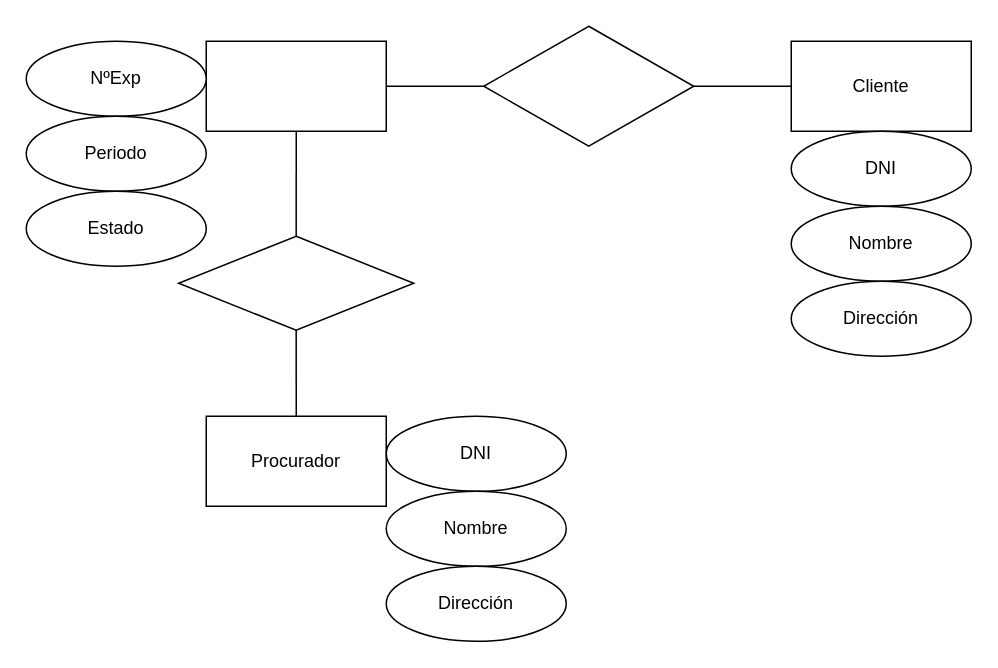
This 998x668 diagram has some shape labels left out. Each missing label, with the centre of its shape:
"Asunto" belongs at point 295,85.
"Corresponde" belongs at point 588,85.
"Es llevado" belongs at point 295,282.
